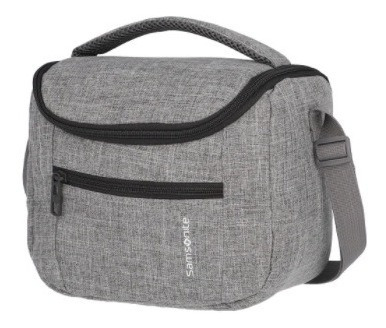cartera: (21, 15, 368, 312)
